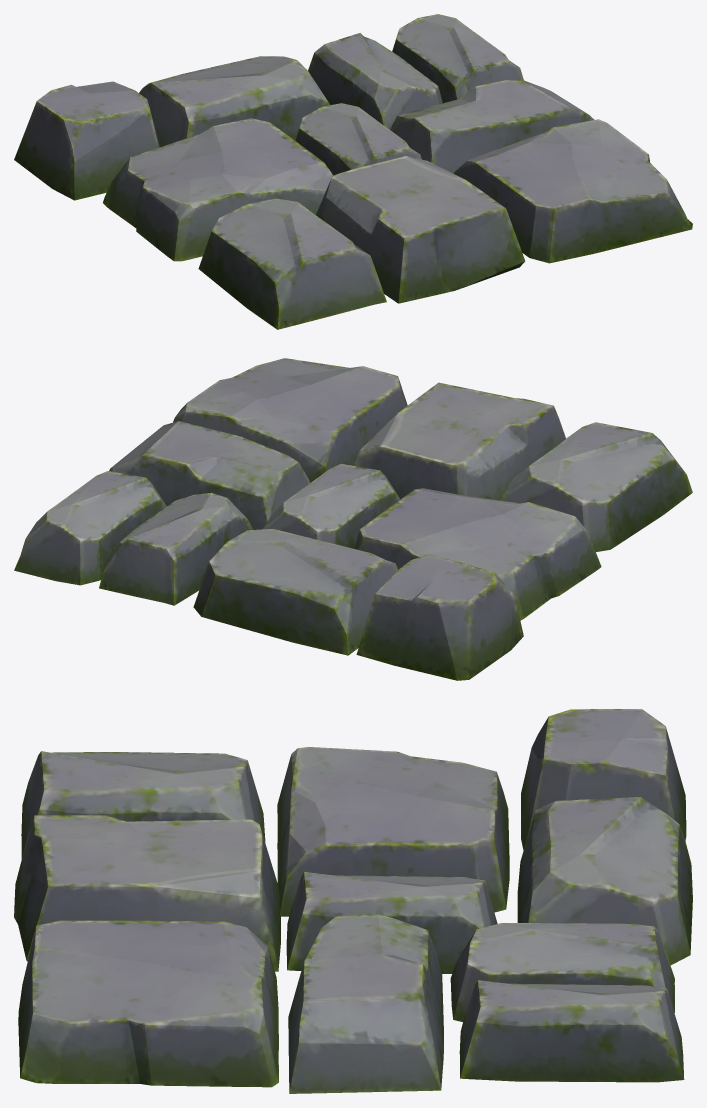
File: RockPath_Square_Small_1.gltf
3 views of the same model, one above another, from view 1: azimuth 30°, elevation 25°; view 2: azimuth 150°, elevation 25°; view 3: azimuth 270°, elevation 25° (orthographic). The views are drawn at different scales.
Visible parts, largest first — view 1: RockPath_Square_Small_1; view 2: RockPath_Square_Small_1; view 3: RockPath_Square_Small_1.
Part boxes in pixels (<box>): RockPath_Square_Small_1: <box>14,14,692,329</box>; RockPath_Square_Small_1: <box>14,358,692,680</box>; RockPath_Square_Small_1: <box>14,709,692,1093</box>.
Bounding box in the file's own units: 1.02 × 0.1499 × 0.9739.
Materials: 1 (1 with a texture image).
